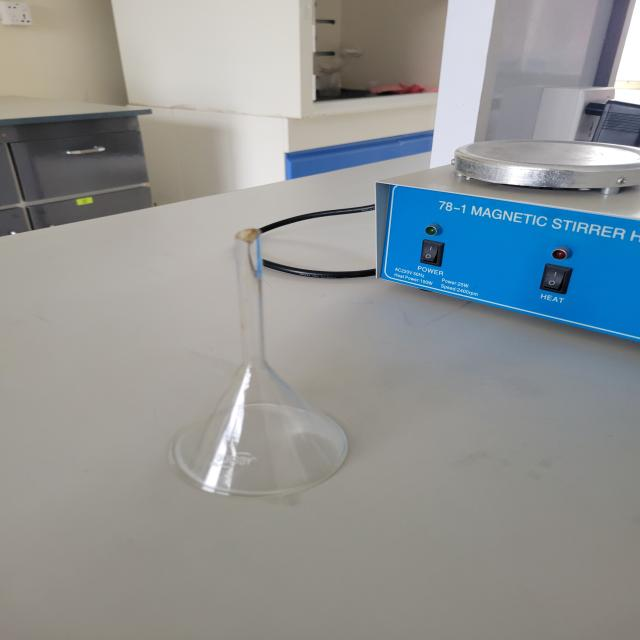Funnel: (88, 199, 408, 527)
